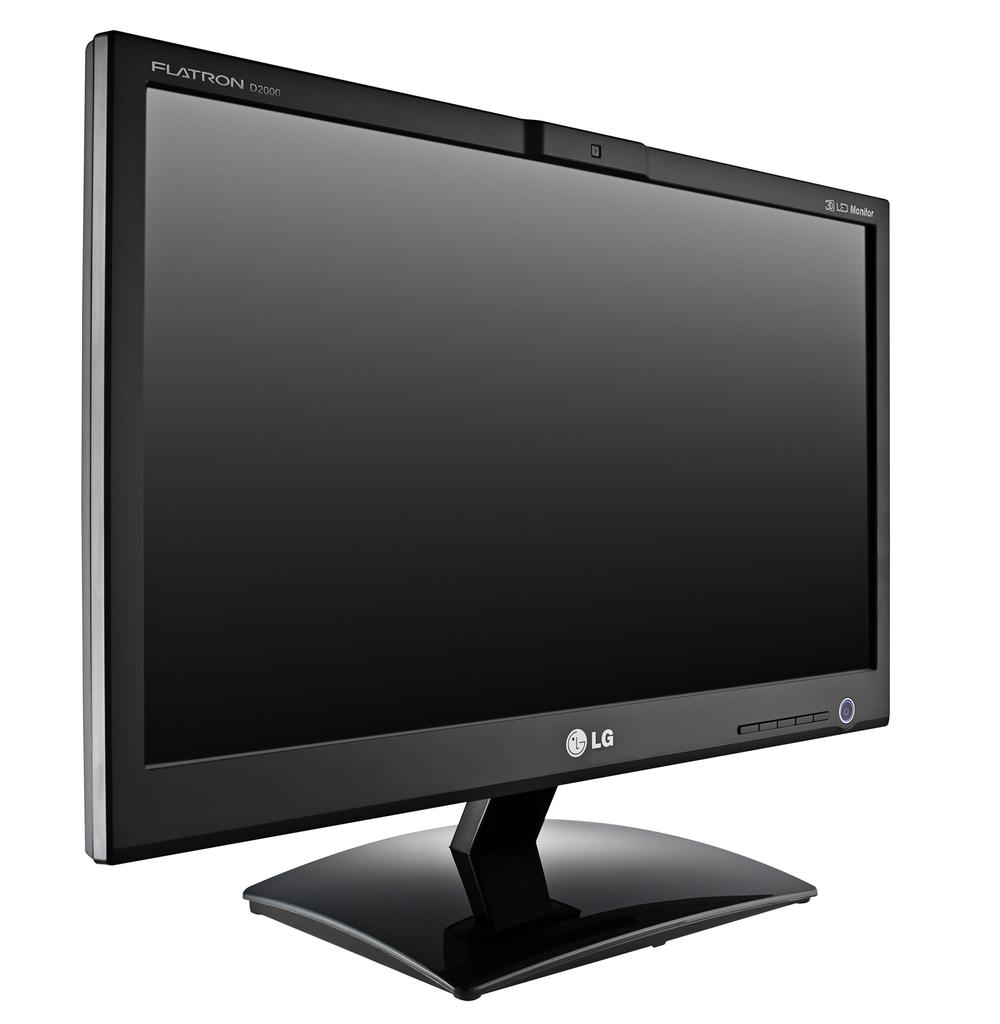Laptop: (80, 28, 892, 1001)
